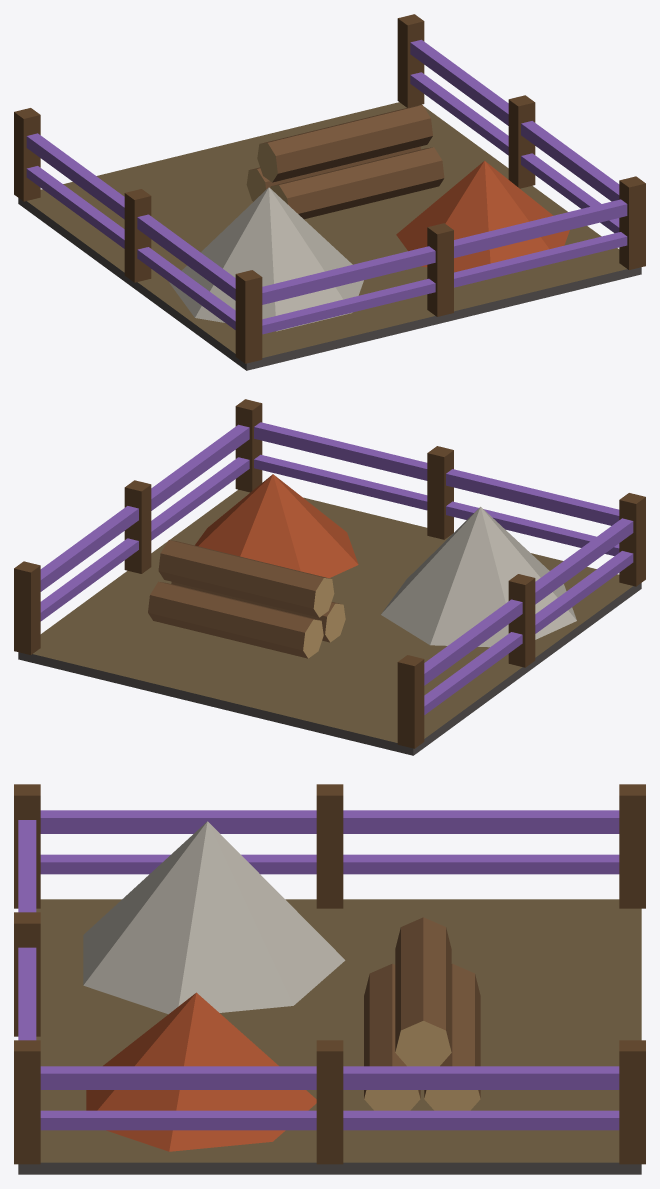
Rendered from stockyard.glb.
3 views of the same model, one above another, from view 1: azimuth 30°, elevation 25°; view 2: azimuth 150°, elevation 25°; view 3: azimuth 270°, elevation 25° (orthographic). The views are drawn at different scales.
Parts seen in each view (by area): view 1: stockyard; view 2: stockyard; view 3: stockyard.
Part boxes in pixels (<box>): stockyard: <box>14,14,645,370</box>; stockyard: <box>14,399,645,755</box>; stockyard: <box>14,784,645,1174</box>.
Size of the model in its own units: 2.84 by 0.75 by 2.84.
